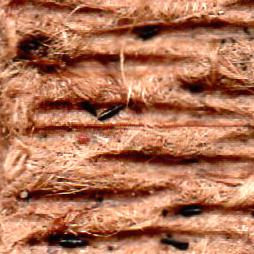egg: (82, 102, 125, 120), (97, 104, 125, 120), (142, 25, 163, 41), (60, 237, 87, 247), (162, 238, 187, 248), (180, 205, 202, 215), (18, 40, 39, 49), (186, 84, 202, 92)
